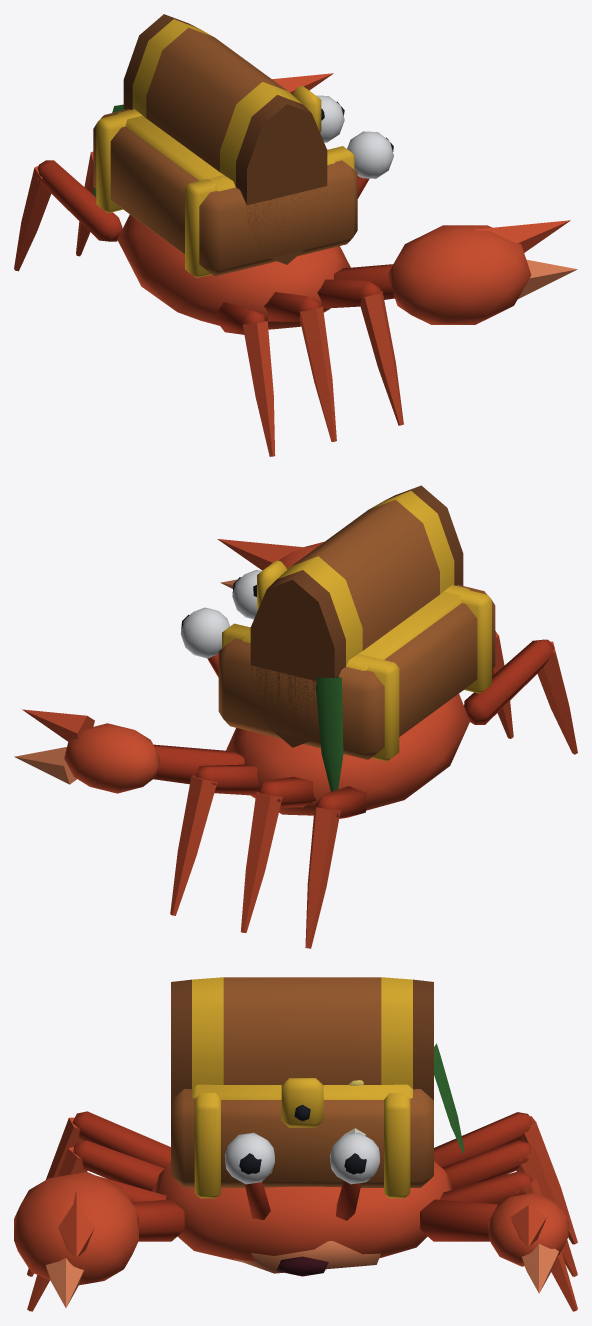
The model's file is e_untote_krabbe.glb.
The picture shows the model from 3 angles, top to bottom: view 1: azimuth 30°, elevation 25°; view 2: azimuth 150°, elevation 25°; view 3: azimuth 270°, elevation 25°; orthographic projection. The views are drawn at different scales.
Visible parts, largest first — view 1: body; view 2: body; view 3: body.
Part boxes in pixels (left/top/right/bottom): body: left=14, top=14, right=577, bottom=456; body: left=14, top=485, right=577, bottom=948; body: left=14, top=977, right=577, bottom=1311.
Size of the model in its own units: 1.54 by 1.3 by 2.15.
